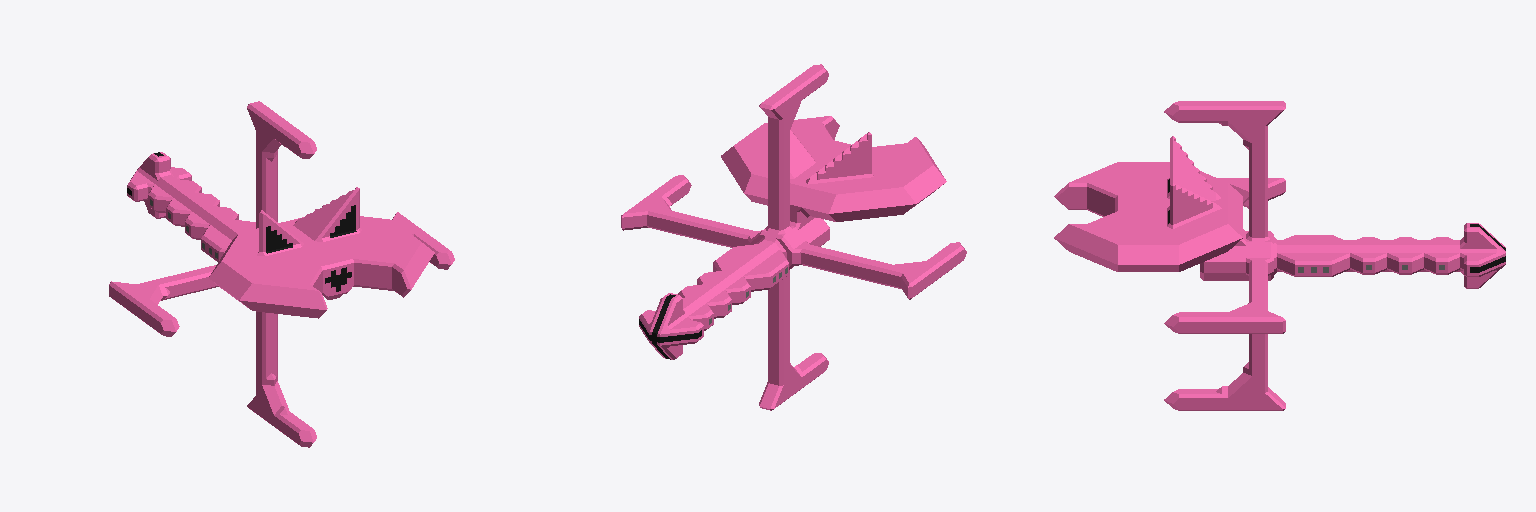
The picture shows the model from 3 angles: view 1: azimuth 30°, elevation 25°; view 2: azimuth 150°, elevation 25°; view 3: azimuth 270°, elevation 25°; orthographic projection.
Size of the model in its own units: 55 by 55 by 74.
Materials: 1 (1 with a texture image).